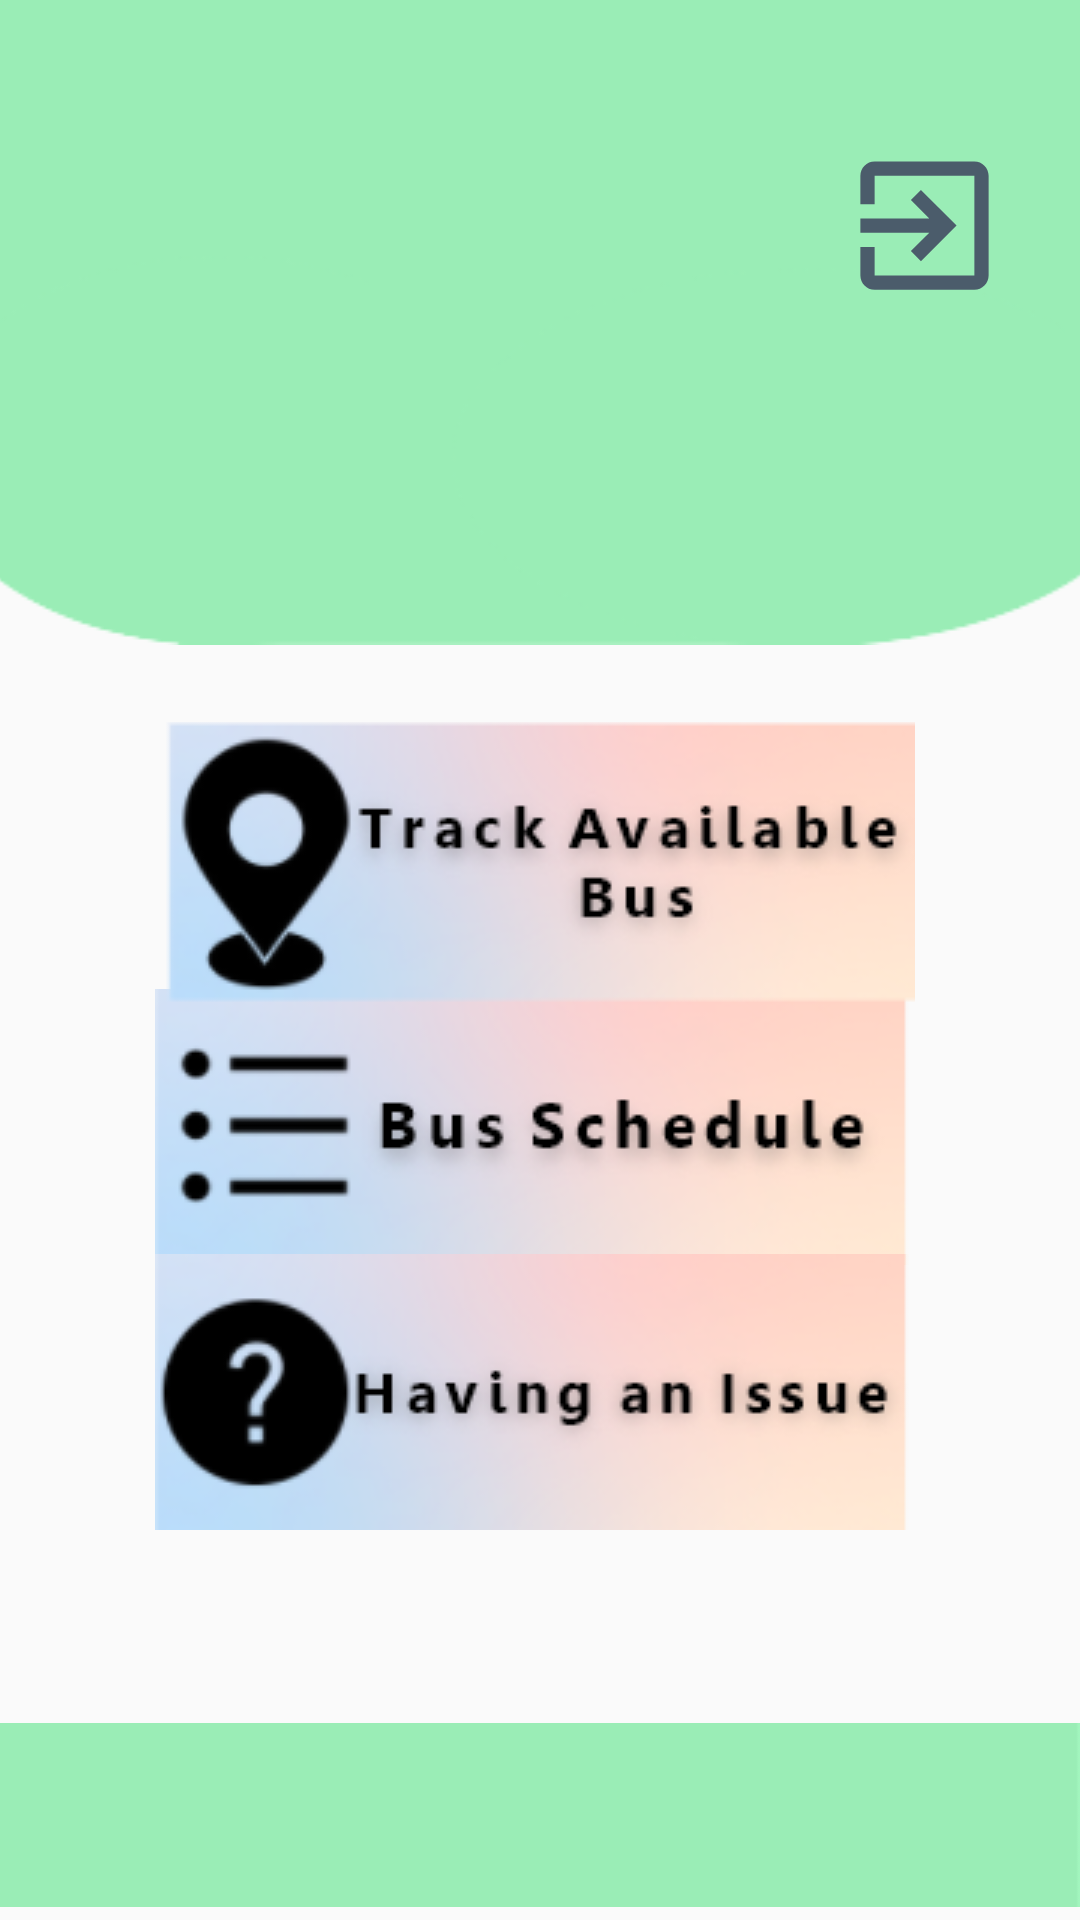

Icon click points for this 1080w x 1920h phone screenshot, format (x=x, y=y):
exit to app: (x=924, y=225)
